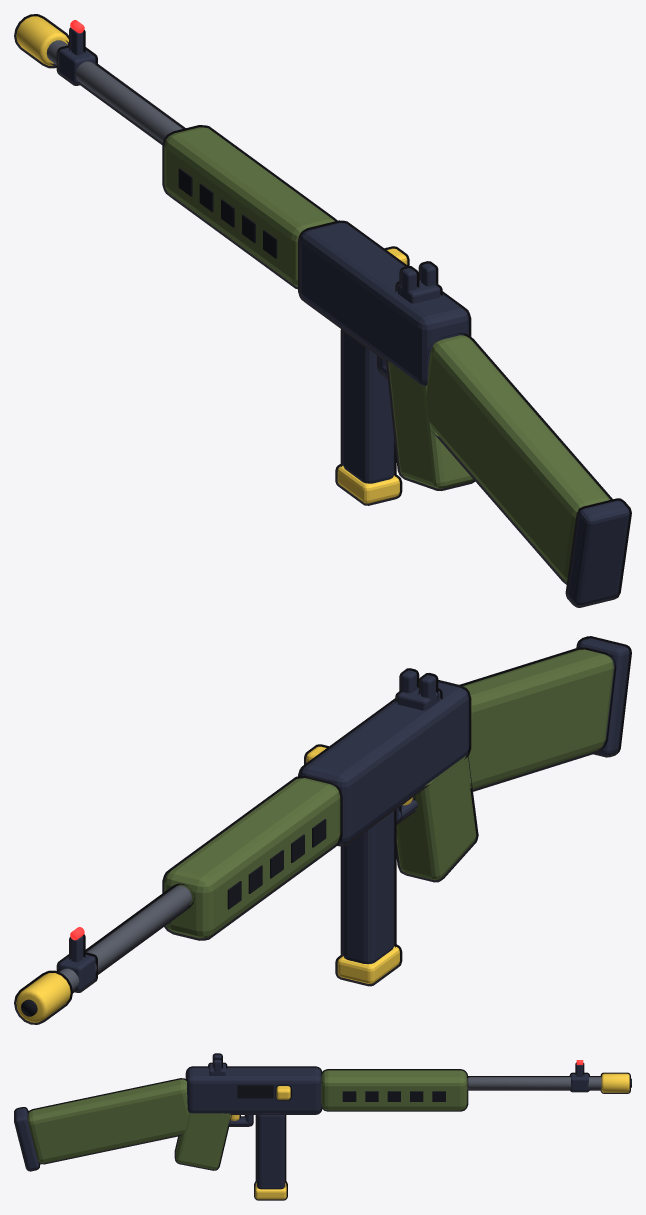
File: rifle.glb
3 views of the same model, one above another, from view 1: azimuth 30°, elevation 25°; view 2: azimuth 150°, elevation 25°; view 3: azimuth 270°, elevation 25° (orthographic). The views are drawn at different scales.
Visible parts, largest first — view 1: Stock, Receiver, Handguard, Magazine, ButtPad, Grip, Barrel, MuzzleBrake, MagBase, FrontBase; view 2: Stock, Handguard, Receiver, Magazine, Grip, Barrel, ButtPad, MuzzleBrake, MagBase, FrontBase, RearBase; view 3: Stock, Receiver, Handguard, Grip, Magazine, Barrel, ButtPad, MuzzleBrake, Port, MagBase, FrontBase, Slide.
Part boxes in pixels (x1,y1,x2,y2): Stock: [426, 333, 612, 584]; Receiver: [298, 220, 471, 385]; Handguard: [162, 125, 337, 289]; Magazine: [340, 329, 396, 483]; ButtPad: [565, 498, 631, 607]; Grip: [386, 359, 474, 490]; Barrel: [46, 40, 185, 144]; MuzzleBrake: [14, 14, 68, 68]; MagBase: [335, 464, 402, 505]; FrontBase: [56, 45, 97, 85]; Stock: [459, 647, 616, 791]; Handguard: [162, 775, 342, 940]; Receiver: [298, 680, 471, 846]; Magazine: [340, 809, 396, 964]; Grip: [396, 752, 478, 882]; Barrel: [57, 883, 194, 992]; ButtPad: [576, 636, 631, 757]; MuzzleBrake: [14, 970, 72, 1024]; MagBase: [335, 944, 402, 986]; FrontBase: [56, 952, 97, 992]; RearBase: [395, 687, 442, 710]; Stock: [27, 1078, 188, 1164]; Receiver: [185, 1066, 322, 1114]; Handguard: [321, 1069, 468, 1111]; Grip: [174, 1112, 231, 1170]; Magazine: [255, 1113, 286, 1189]; Barrel: [467, 1076, 601, 1090]; ButtPad: [14, 1107, 40, 1171]; MuzzleBrake: [600, 1072, 630, 1093]; Port: [237, 1085, 273, 1098]; MagBase: [254, 1181, 287, 1200]; FrontBase: [569, 1072, 589, 1092]; Slide: [275, 1084, 291, 1100].
Bounding box in the file's own units: 0.0813 × 0.2753 × 1.1.
